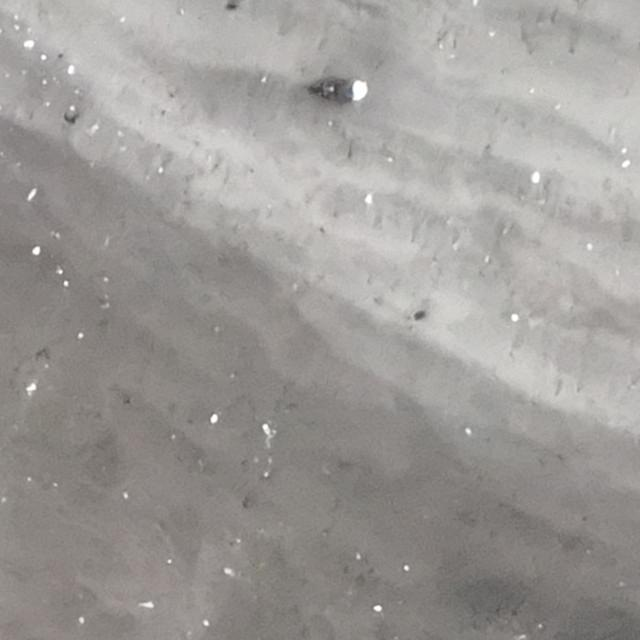umineko: (317, 75, 368, 104)
